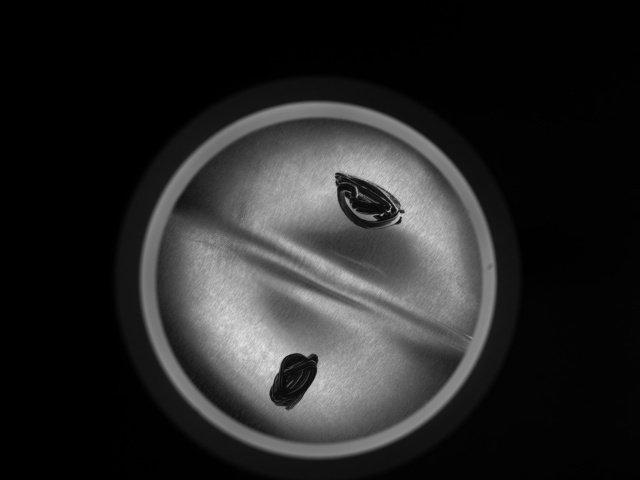zang_wu: (331, 167, 405, 231), (268, 351, 317, 411)
zhe_zhou: (193, 153, 438, 409)
